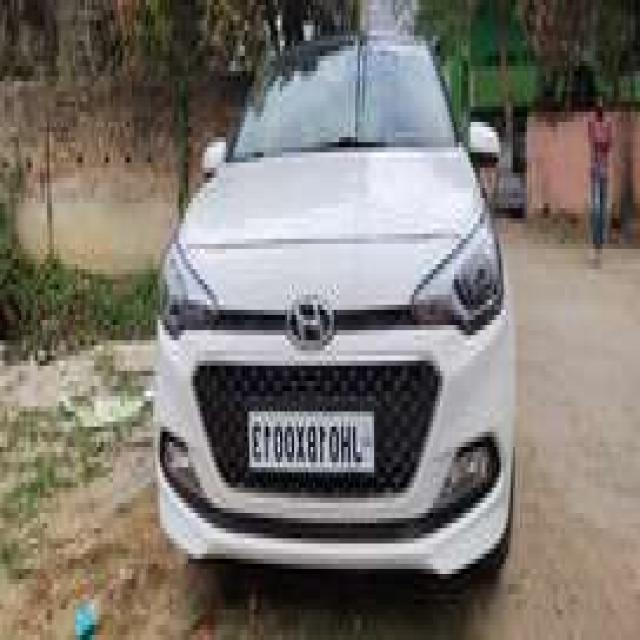license_plate: (246, 405, 376, 483)
